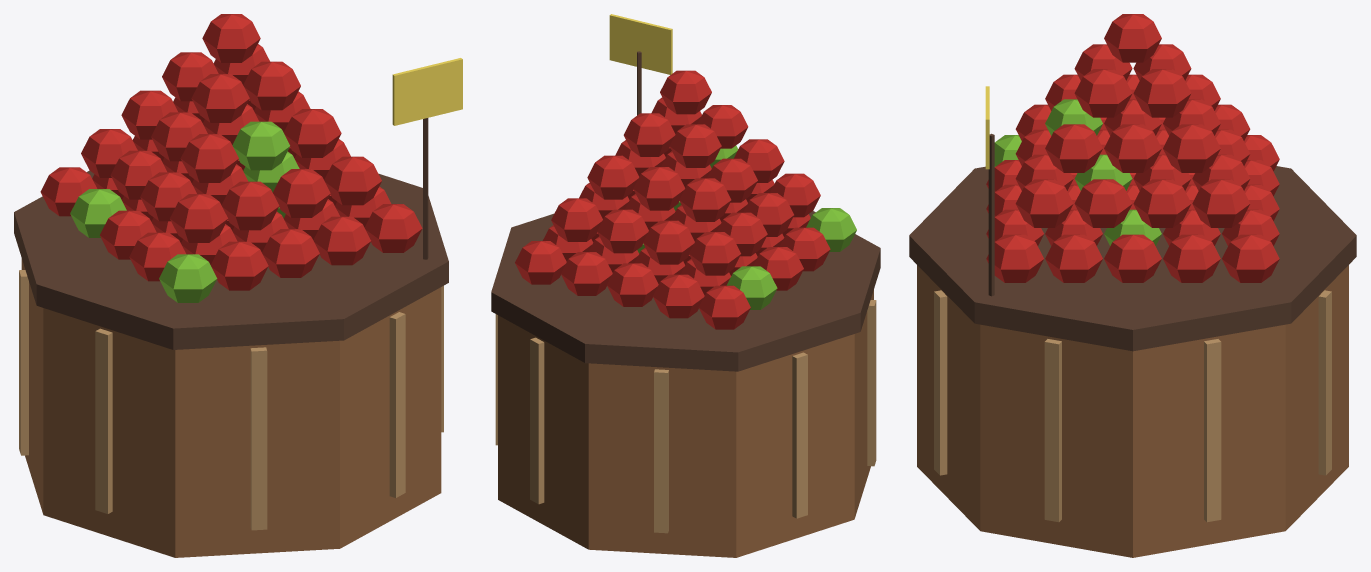
Rendered from Fruit_Pyramid_Apple_Market.glb.
The picture shows the model from 3 angles, left to right: view 1: azimuth 30°, elevation 25°; view 2: azimuth 150°, elevation 25°; view 3: azimuth 270°, elevation 25°; orthographic projection. The views are drawn at different scales.
Parts seen in each view (by area): view 1: Fruit_Pyramid_Apple_Market; view 2: Fruit_Pyramid_Apple_Market; view 3: Fruit_Pyramid_Apple_Market.
Boxes of the visible parts, left/top/right/bottom form: Fruit_Pyramid_Apple_Market: left=14, top=14, right=462, bottom=557; Fruit_Pyramid_Apple_Market: left=491, top=14, right=880, bottom=557; Fruit_Pyramid_Apple_Market: left=909, top=14, right=1356, bottom=557.
Bounding box in the file's own units: 1.14 × 1.27 × 1.14.
Materials: 1 (1 with a texture image).
